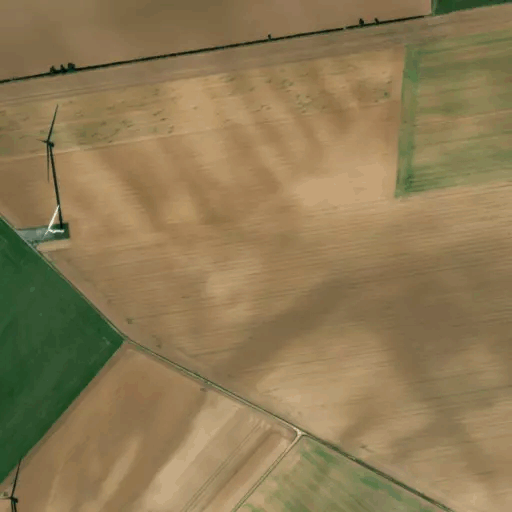wt: (21, 98, 79, 238), (1, 451, 35, 512)
